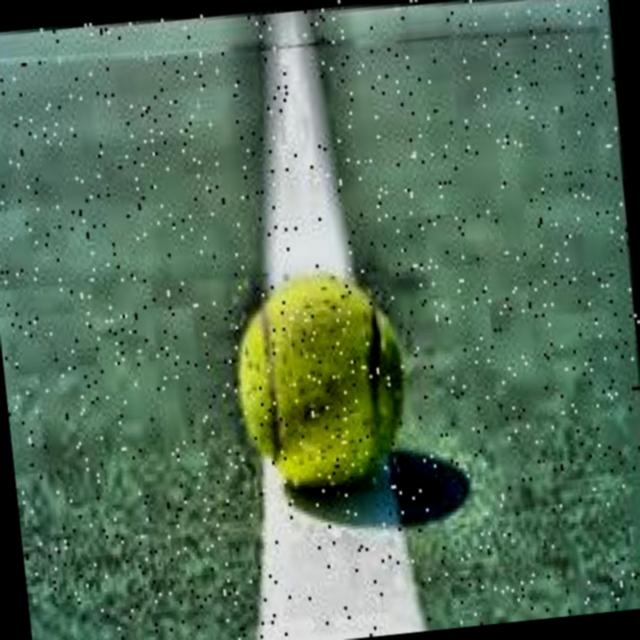Tennis Ball: (218, 257, 424, 509)
